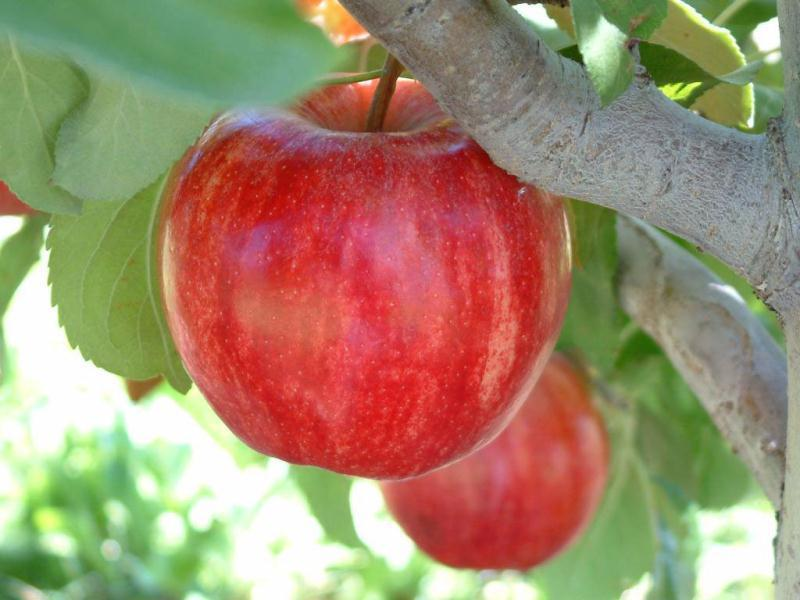apple: (157, 75, 561, 479)
